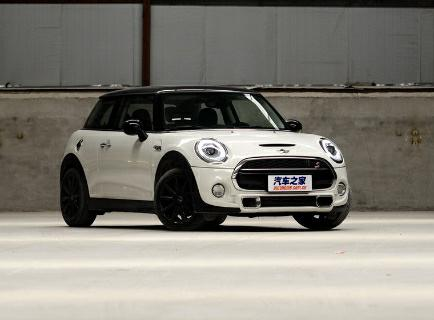MINI: (55, 86, 356, 236)
